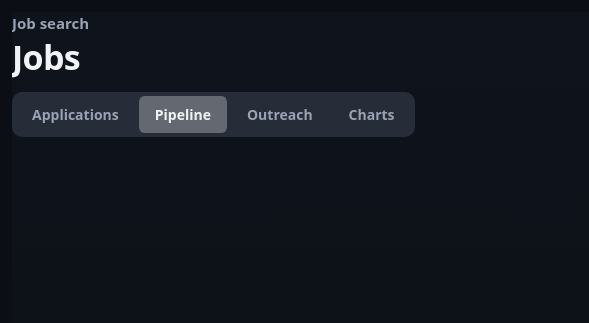
Test case: Jobs with nothing in the vault › offers sample data on the Applications tab when not connected
This screenshot has width=589, height=323.
Click the tab "Applications" at (75, 114), box [16,96,135,133]
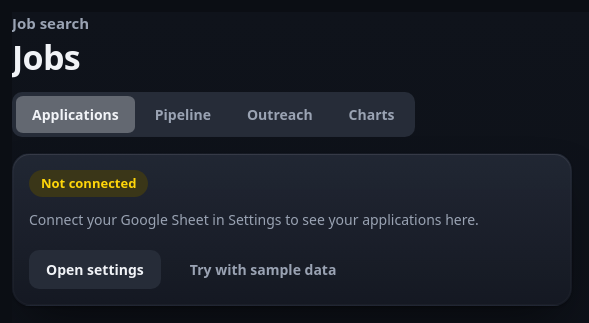
Result: the button "Try with sample data" is shown at [173,250,353,289]
